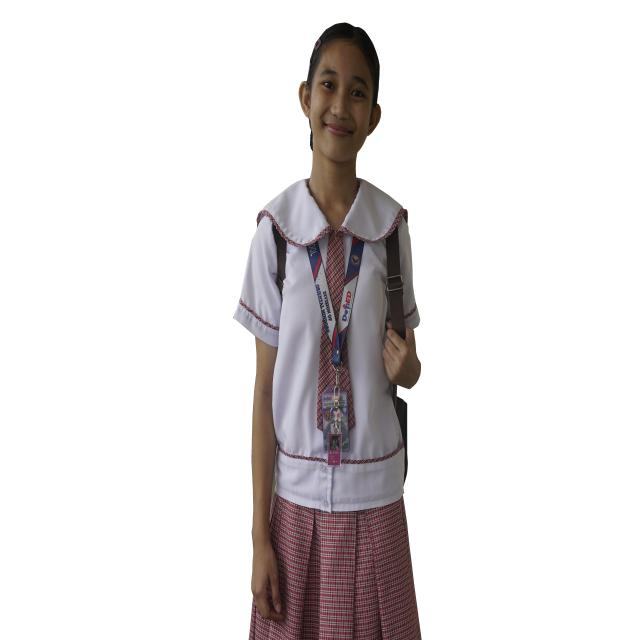id lace: (307, 240, 363, 367)
pologirl: (234, 180, 420, 511), (323, 230, 345, 314), (317, 326, 335, 428), (323, 230, 345, 313), (317, 333, 333, 428), (341, 349, 351, 392), (343, 370, 351, 392), (348, 407, 355, 426), (348, 408, 355, 427), (343, 349, 348, 370)
skirt: (249, 492, 421, 640)
